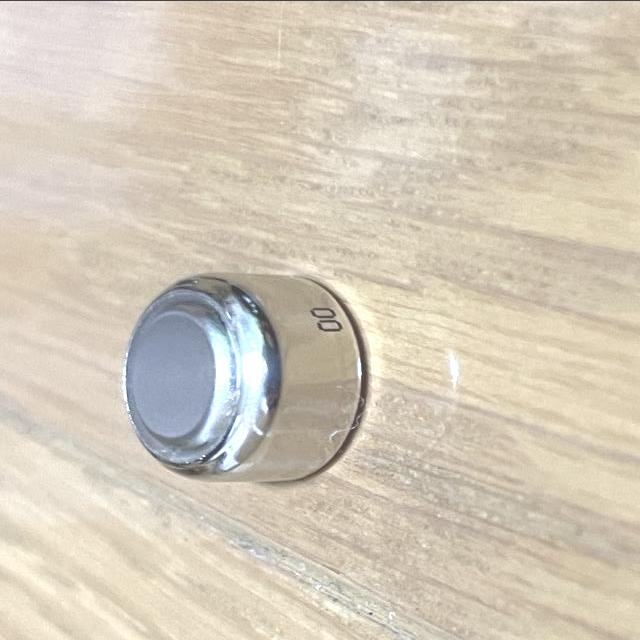COIN: (122, 270, 368, 483)
